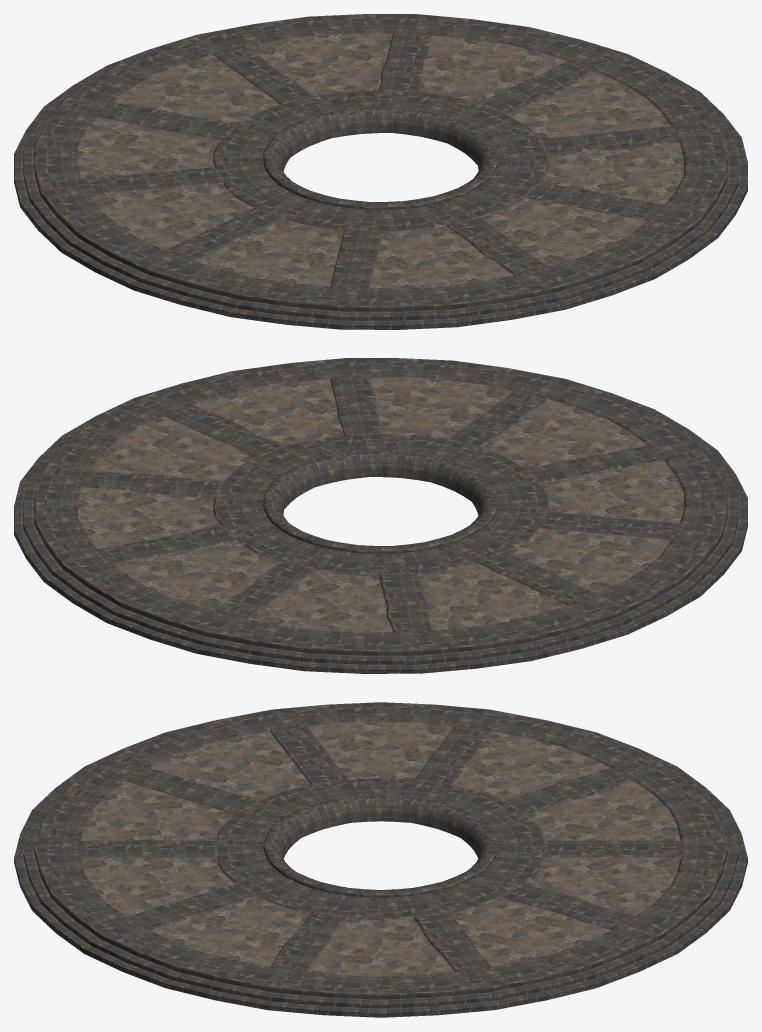
The model's file is SM_RoundFloor.fbx.
3 renders of one model, top to bottom at view 1: azimuth 30°, elevation 25°; view 2: azimuth 150°, elevation 25°; view 3: azimuth 270°, elevation 25°, orthographic.
Visible parts, largest first — view 1: SM_RoundFloor_LOD0; view 2: SM_RoundFloor_LOD0; view 3: SM_RoundFloor_LOD0.
Part boxes in pixels (x1=…): SM_RoundFloor_LOD0: x1=14, y1=14, x2=747, y2=329; SM_RoundFloor_LOD0: x1=14, y1=358, x2=747, y2=673; SM_RoundFloor_LOD0: x1=14, y1=702, x2=747, y2=1017.
Size of the model in its own units: 3324 by 3324 by 92.44.
Materials: 2 (2 with a texture image).
